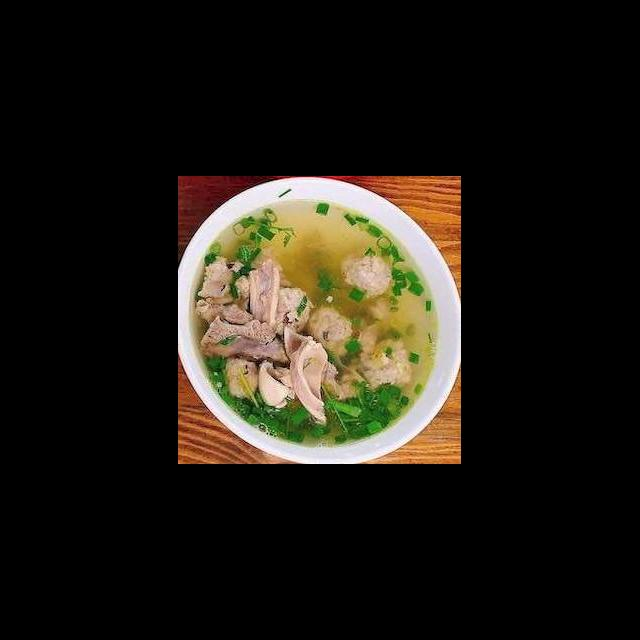thit heo: (198, 313, 294, 367), (194, 252, 256, 328)
vien moc: (338, 246, 396, 302), (306, 299, 358, 360), (264, 283, 318, 337)
